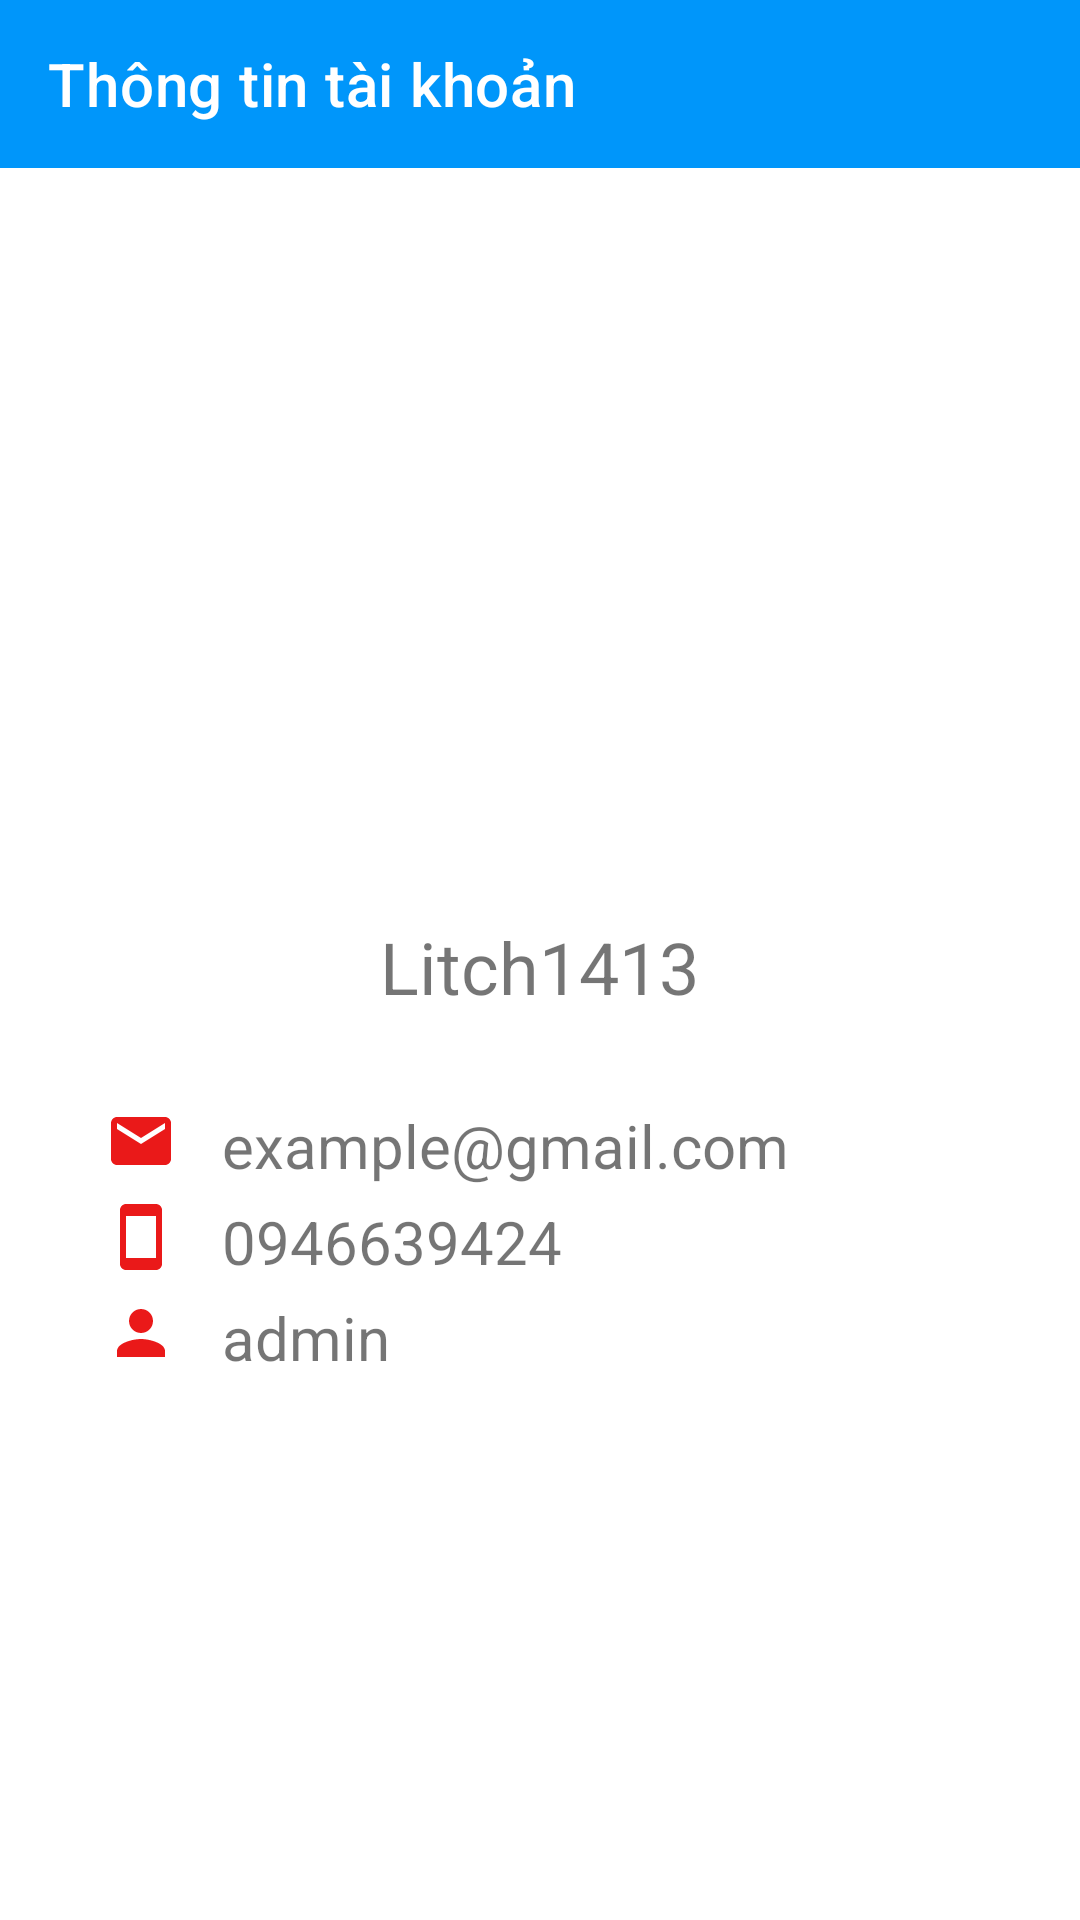

Where icons sit on this 1080px×1920px app screen, as region(x1, y1, x2, y2):
email: region(111, 1117, 171, 1165)
mobile: region(120, 1204, 162, 1270)
person: region(117, 1309, 165, 1357)
